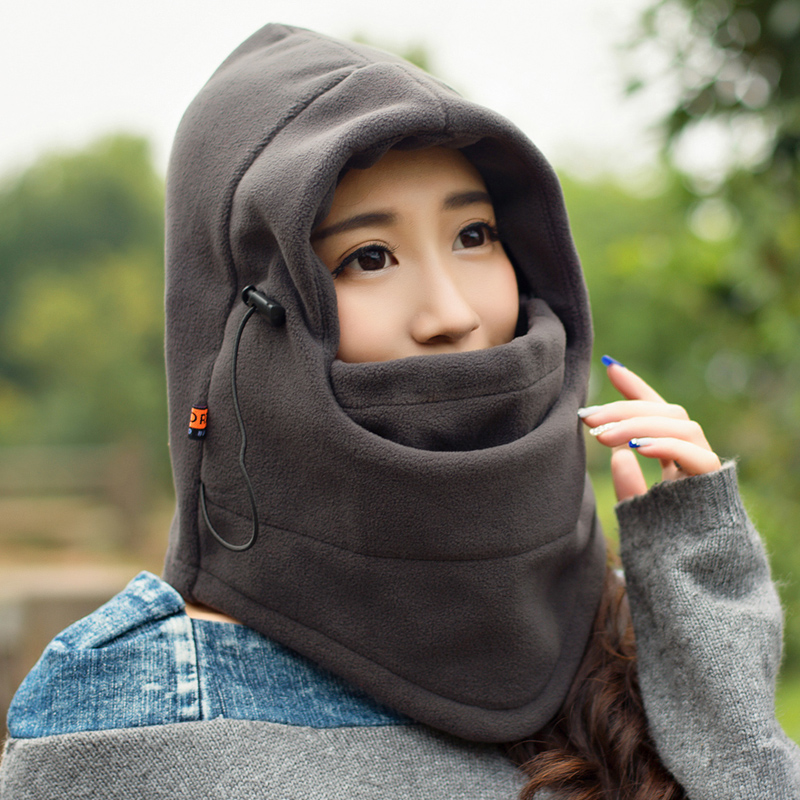face: (302, 130, 527, 449)
